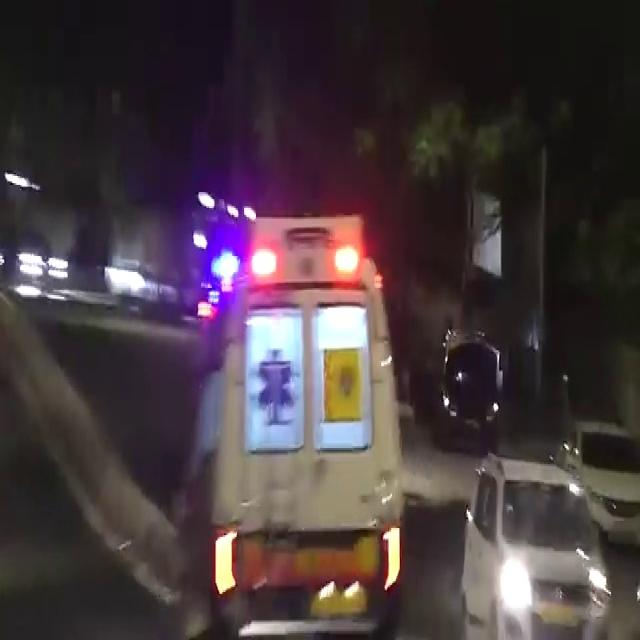ambulance: (216, 204, 402, 604)
